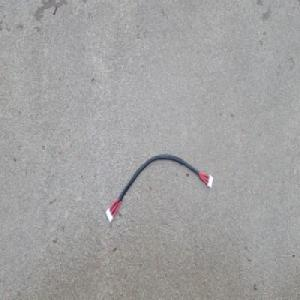Wire: (103, 153, 214, 225)
